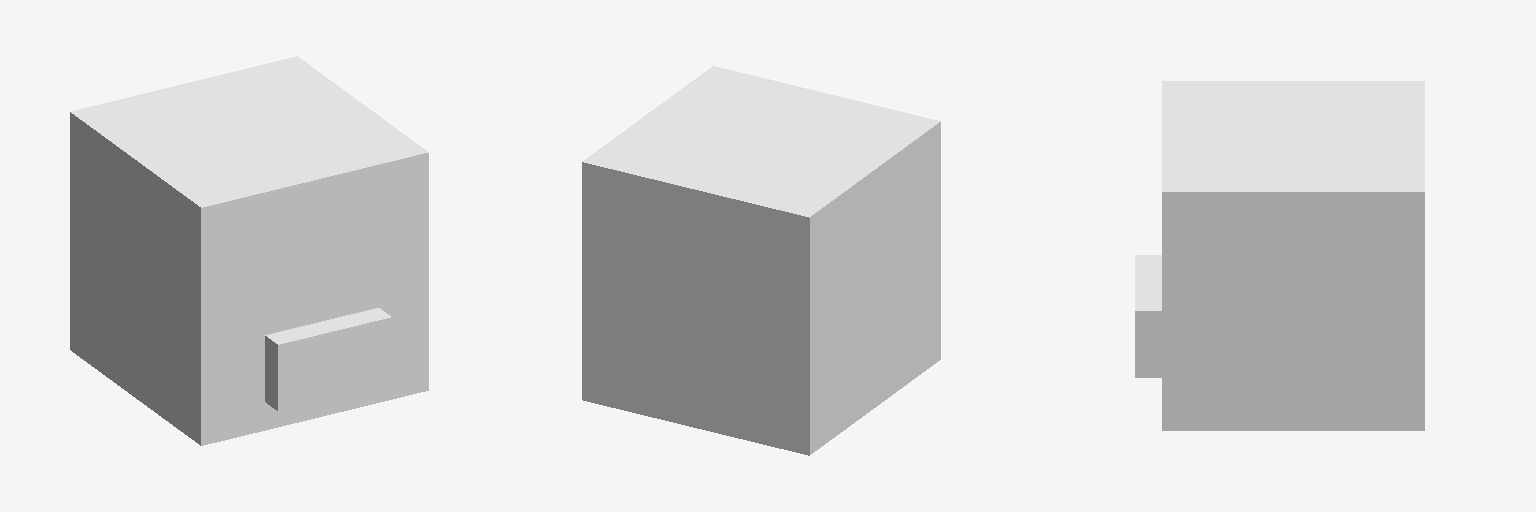
The model's file is pig-2.obj.
3 views of the same model, side by side, from view 1: azimuth 30°, elevation 25°; view 2: azimuth 150°, elevation 25°; view 3: azimuth 270°, elevation 25° (orthographic).
Parts seen in each view (by area): view 1: object 1; view 2: object 1; view 3: object 1.
Boxes of the visible parts, x1,y1,x2,y2 form: object 1: [70, 56, 428, 445]; object 1: [582, 66, 940, 455]; object 1: [1135, 81, 1424, 430].
Bounding box in the file's own units: 5 × 5 × 5.5.